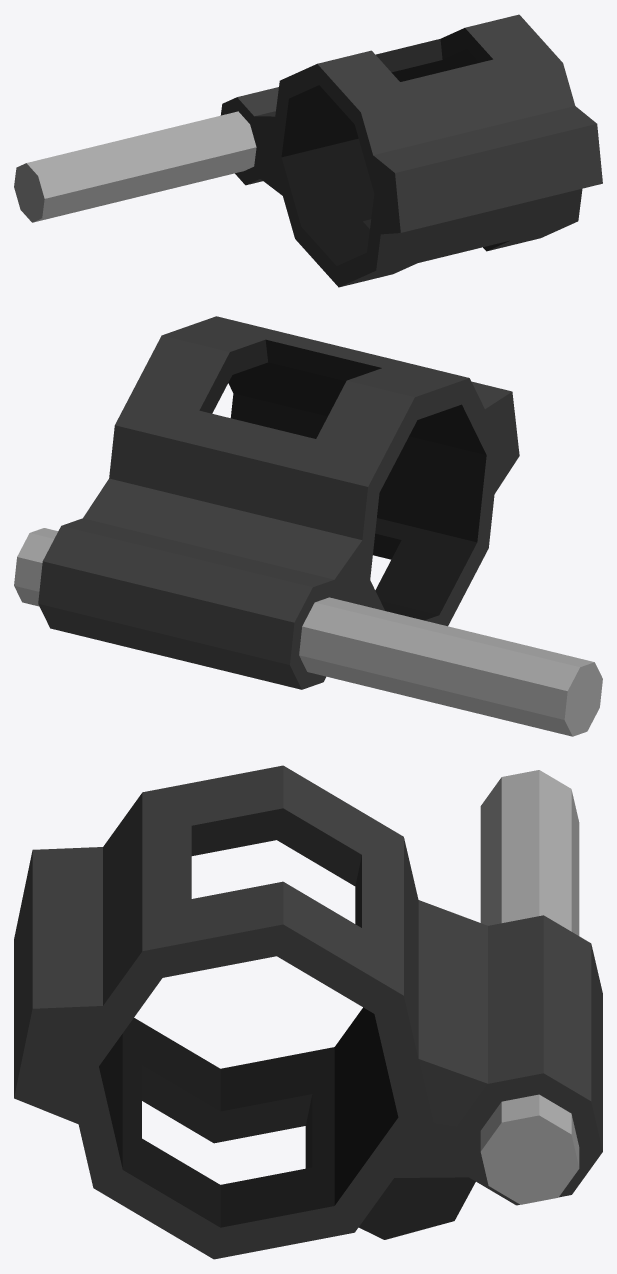
File: GasBlock_3D.glb
3 views of the same model, one above another, from view 1: azimuth 30°, elevation 25°; view 2: azimuth 150°, elevation 25°; view 3: azimuth 270°, elevation 25° (orthographic). The views are drawn at different scales.
Visible parts, largest first — view 1: GasBlockLowPoly; view 2: GasBlockLowPoly; view 3: GasBlockLowPoly.
Boxes of the visible parts, left/top/right/bottom form: GasBlockLowPoly: left=14, top=14, right=602, bottom=287; GasBlockLowPoly: left=14, top=316, right=602, bottom=736; GasBlockLowPoly: left=14, top=765, right=602, bottom=1259.
Size of the model in its own units: 0.1204 by 0.0544 by 0.0867.
1 material, 1 textured.
